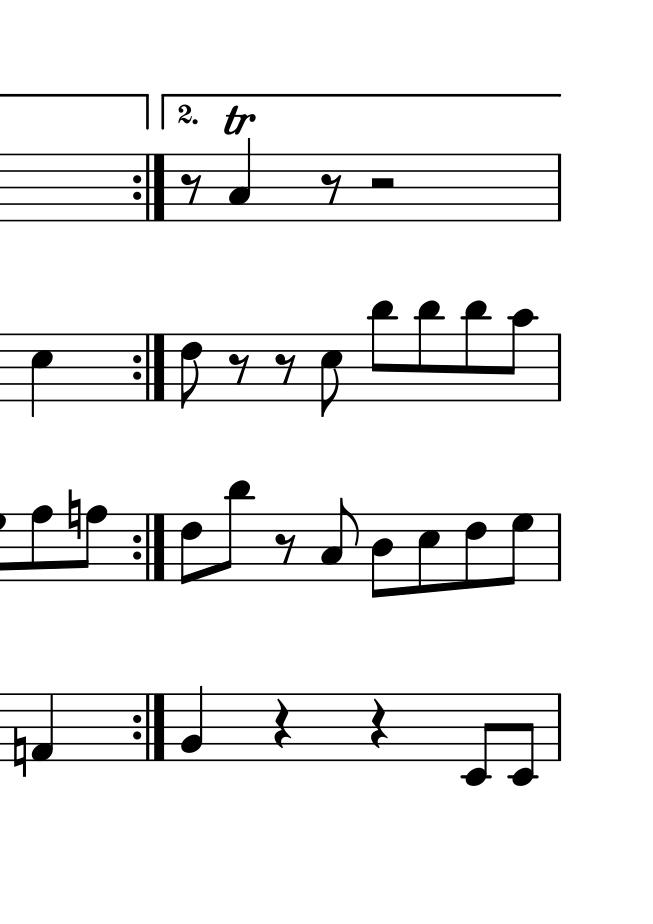4_1: (31, 692, 55, 763)
4_2: (179, 684, 206, 764)
4_3: (227, 138, 252, 222)
4_5: (28, 332, 54, 420)
8_-2: (460, 692, 496, 787), (507, 692, 537, 787)
8_10: (502, 308, 537, 403)
8_11: (216, 478, 252, 583), (415, 298, 444, 403), (461, 298, 490, 403), (369, 297, 396, 402)
8_3: (319, 497, 358, 583)
8_4: (369, 512, 394, 601)
8_5: (318, 332, 344, 417), (415, 511, 441, 596)
8_6: (178, 332, 204, 409), (462, 512, 487, 592), (178, 512, 203, 587)
8_7: (502, 511, 534, 587)
8_8: (77, 504, 107, 584), (28, 504, 53, 584)
Natural: (10, 725, 28, 779), (66, 487, 82, 540)
Rests2: (367, 175, 397, 193)
Rests4: (367, 697, 389, 752), (271, 697, 292, 752)
Rests8: (179, 171, 204, 207), (320, 172, 343, 206), (274, 531, 297, 565), (228, 351, 250, 385), (274, 351, 296, 385)
RightRepeatSign: (133, 153, 168, 223), (133, 513, 168, 582), (132, 334, 167, 402), (132, 693, 166, 761)
Seconda_volta: (159, 88, 569, 134)
Single_barline: (551, 155, 567, 220), (552, 334, 567, 401), (552, 694, 566, 762), (553, 513, 566, 582)
Trill: (222, 106, 258, 135)
